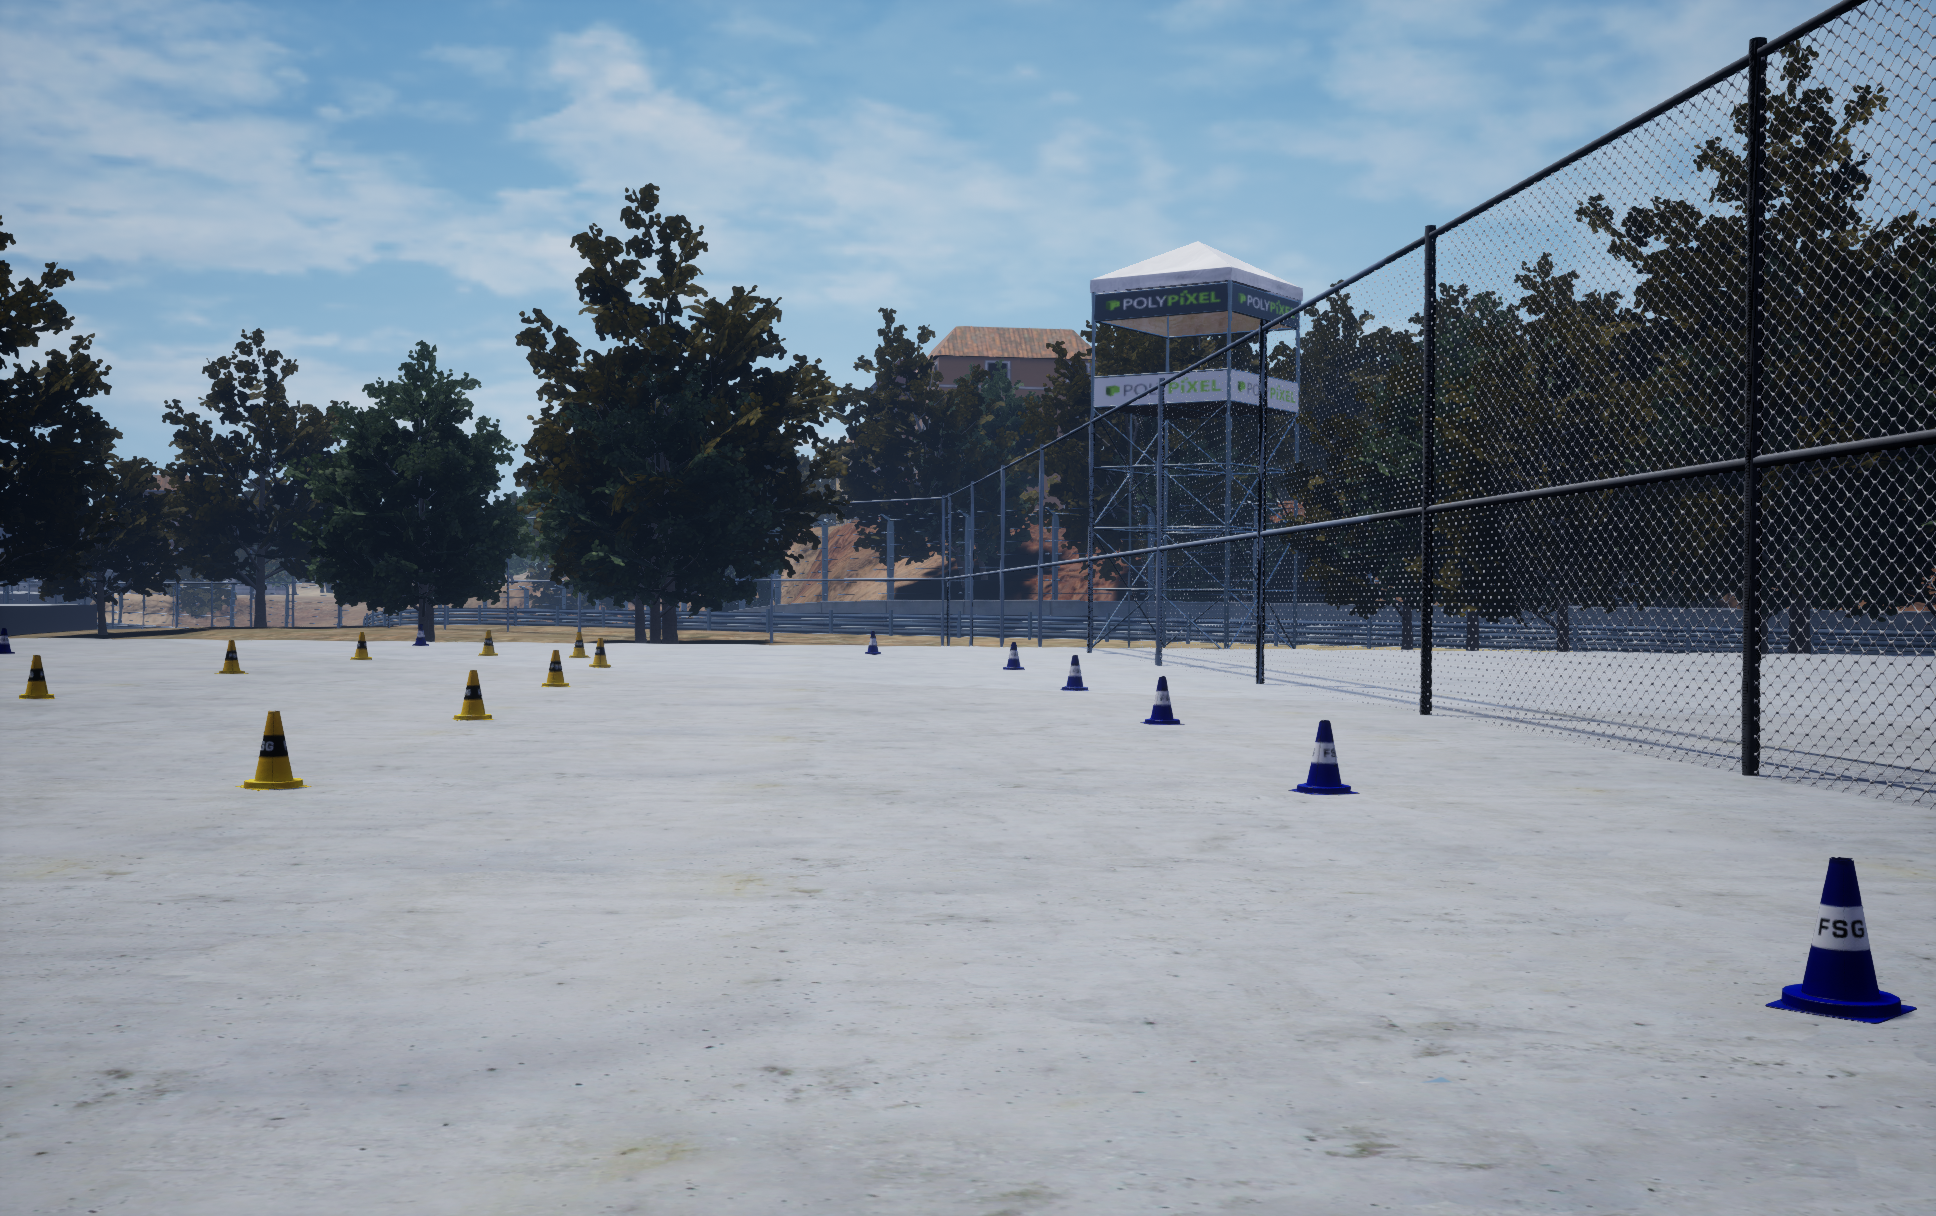blue: (235, 712, 311, 790), (452, 670, 493, 720), (20, 656, 55, 698), (214, 640, 248, 672), (541, 650, 570, 686), (588, 637, 609, 667), (350, 632, 371, 658), (569, 632, 590, 657), (478, 630, 497, 656)
yellow: (1765, 857, 1916, 1023), (1287, 720, 1359, 794), (1140, 677, 1184, 724), (1060, 656, 1088, 691), (1003, 642, 1024, 670), (864, 630, 880, 654), (0, 628, 14, 653), (412, 623, 429, 644)
